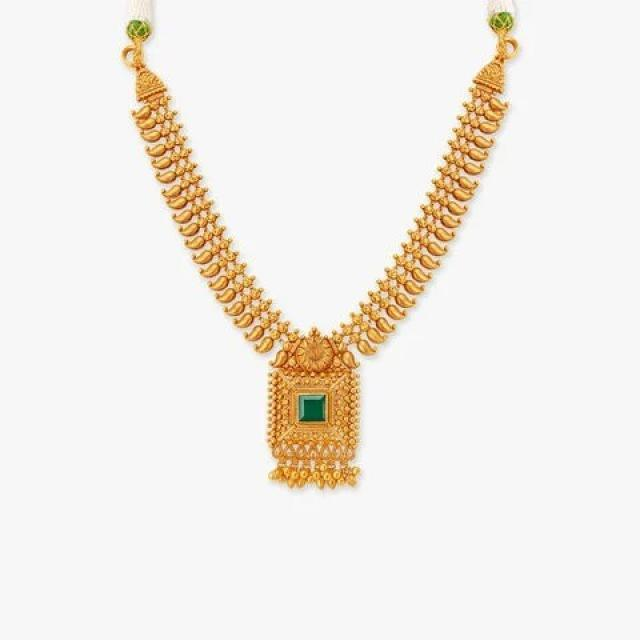missing gem: (306, 343, 324, 360)
